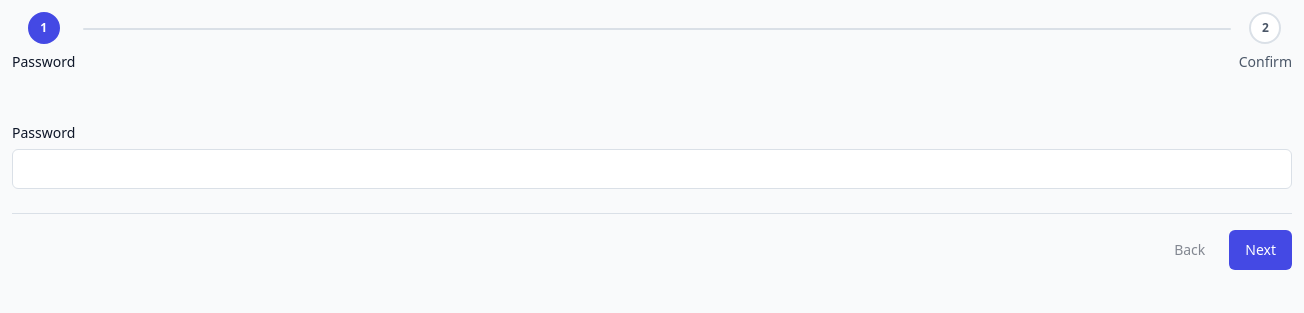
Test: FormWizard — validation + submit › cross-step refinement surfaces an error and routes to the owning step
In the field labelled "Password": (652, 169) [12, 149, 1292, 189], type "abc"
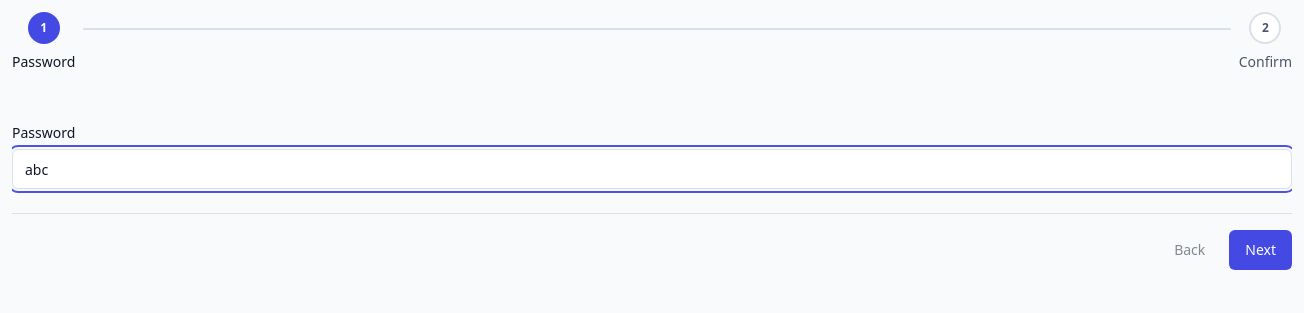
Click the button with test id "wizard-next": (1261, 250) [1229, 230, 1292, 270]
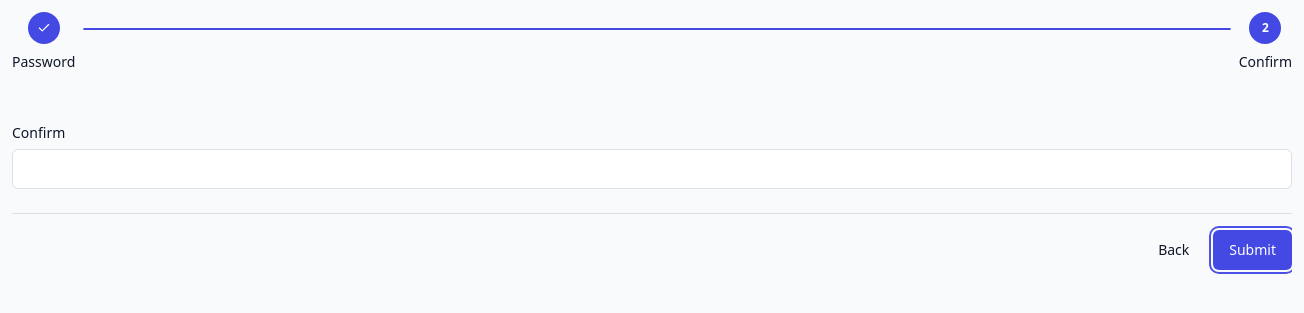
In the field labelled "Confirm": (652, 169) [12, 149, 1292, 189], type "zzz"
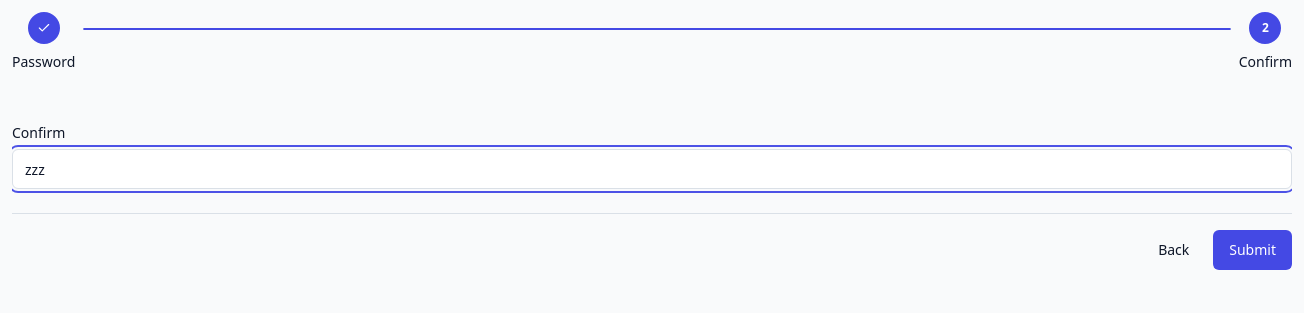
Click the button with test id "wizard-submit": (1253, 250) [1213, 230, 1292, 270]
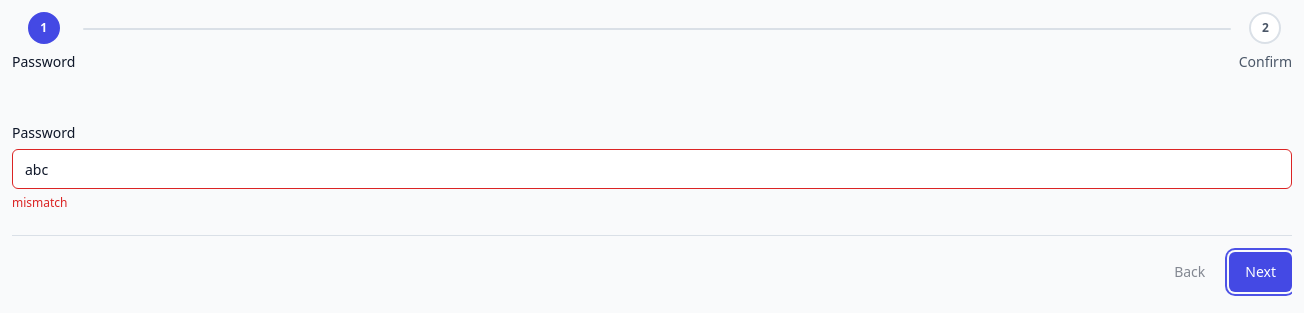
Result: the text "mismatch" is shown at [12, 194, 68, 211]
